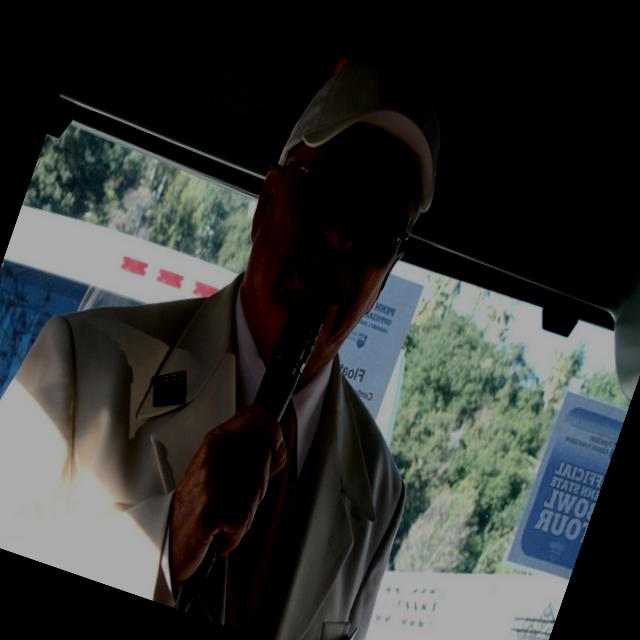Vehicle: (0, 195, 238, 590)
